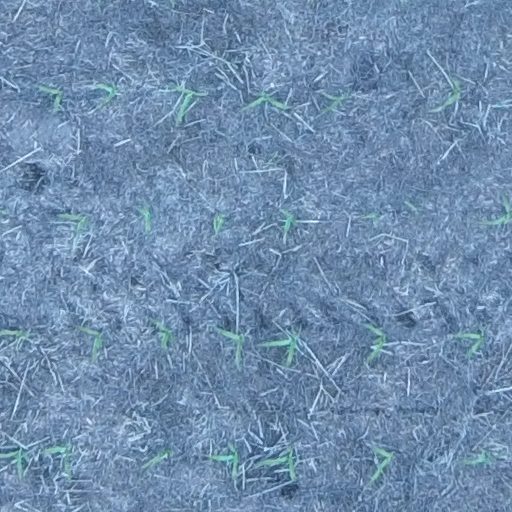planta: (260, 329, 300, 369), (256, 445, 298, 482), (40, 443, 73, 479), (216, 327, 246, 365), (168, 83, 197, 121), (210, 444, 241, 479), (453, 327, 486, 357), (369, 445, 395, 483), (79, 325, 104, 362), (244, 91, 290, 111), (364, 323, 388, 361), (151, 317, 176, 350), (440, 77, 464, 110), (37, 83, 64, 111), (141, 447, 173, 469), (459, 449, 502, 465), (59, 213, 91, 234), (95, 83, 120, 106), (322, 91, 349, 112), (137, 205, 153, 233), (280, 208, 297, 233)
